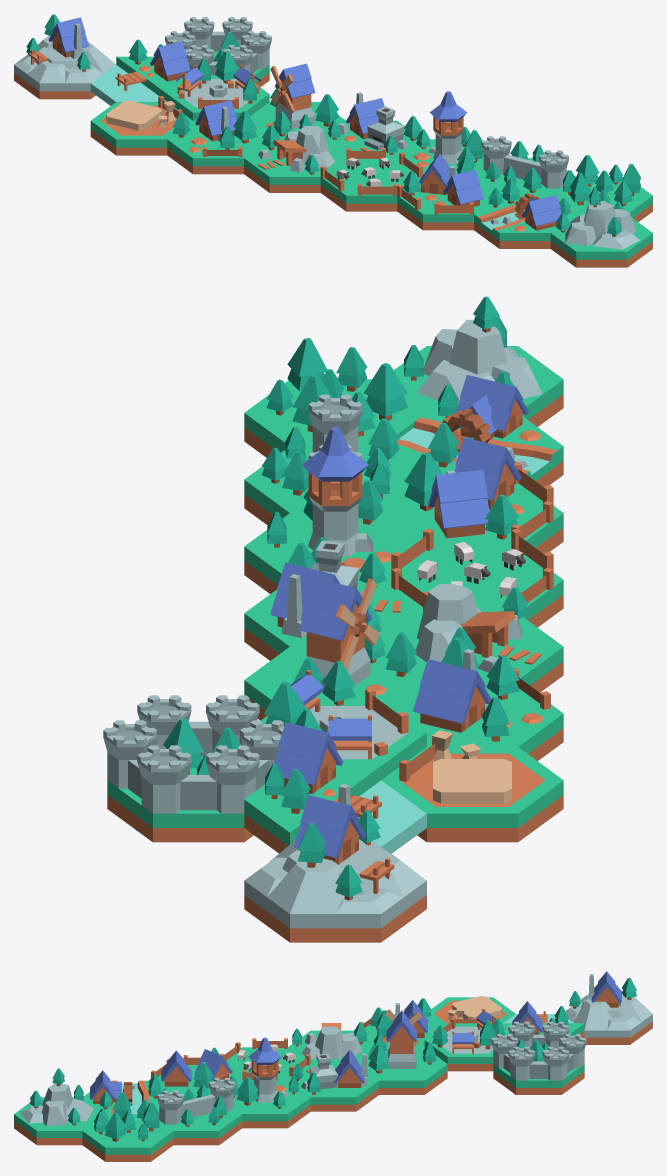
3 views of the same model, one above another, from view 1: azimuth 30°, elevation 25°; view 2: azimuth 150°, elevation 25°; view 3: azimuth 270°, elevation 25° (orthographic). The views are drawn at different scales.
Visible parts, largest first — view 1: building_cabin, grass_hill, building_village, building_house, building_mine, building_sheep, building_water, building_dock, building_castle, building_farm, building_market, building_wall (+4 smaller); view 2: building_castle, building_cabin, building_farm, building_village, building_tower, building_house, building_dock, building_mill, grass_forest, grass_hill, building_sheep, building_mine (+4 smaller); view 3: building_castle, building_mill, building_wall, grass_forest, building_tower, building_cabin, grass_hill, building_smelter, building_market, building_village, building_mine, building_water (+4 smaller).
Boxes of the visible parts, <box> form: building_cabin: <box>14,14,115,99</box>; grass_hill: <box>550,187,652,267</box>; building_village: <box>397,153,492,230</box>; building_house: <box>167,100,263,174</box>; building_mine: <box>244,125,345,192</box>; building_sheep: <box>320,148,422,211</box>; building_water: <box>474,179,575,248</box>; building_dock: <box>90,39,190,105</box>; building_castle: <box>165,17,271,86</box>; building_farm: <box>90,96,192,155</box>; building_market: <box>167,51,269,120</box>; building_wall: <box>477,136,575,195</box>; building_castle: <box>103,695,283,842</box>; building_cabin: <box>244,783,426,942</box>; building_farm: <box>381,730,563,842</box>; building_village: <box>381,437,563,553</box>; building_tower: <box>244,427,418,593</box>; building_house: <box>391,637,563,760</box>; building_dock: <box>244,722,426,853</box>; building_mill: <box>244,578,421,720</box>; grass_forest: <box>244,338,426,457</box>; grass_hill: <box>393,296,563,426</box>; building_sheep: <box>383,528,563,627</box>; building_mine: <box>383,584,563,692</box>; building_castle: <box>491,1021,586,1094</box>; building_mill: <box>358,1009,447,1094</box>; building_wall: <box>157,1078,242,1145</box>; grass_forest: <box>82,1092,173,1161</box>; building_tower: <box>230,1037,310,1128</box>; building_cabin: <box>565,971,652,1044</box>; grass_hill: <box>14,1068,99,1145</box>; building_smelter: <box>288,1050,378,1111</box>; building_market: <box>424,1009,507,1071</box>; building_village: <box>151,1047,241,1097</box>; building_mine: <box>288,1022,374,1063</box>; building_water: <box>83,1070,163,1113</box>.
Bounding box in the file's own units: 45 × 10.2 × 80.83.
